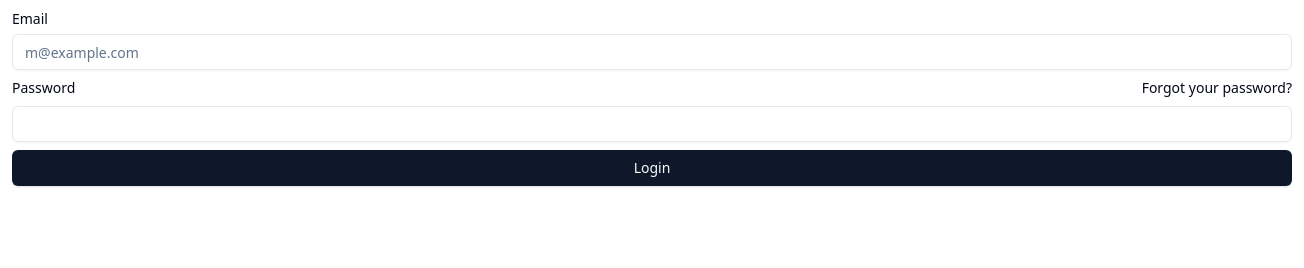
Test: LoginForm › displays error message for failed login
In the field labelled "Email": x=652, y=52 [12,34,1292,70], type "test@example.com"
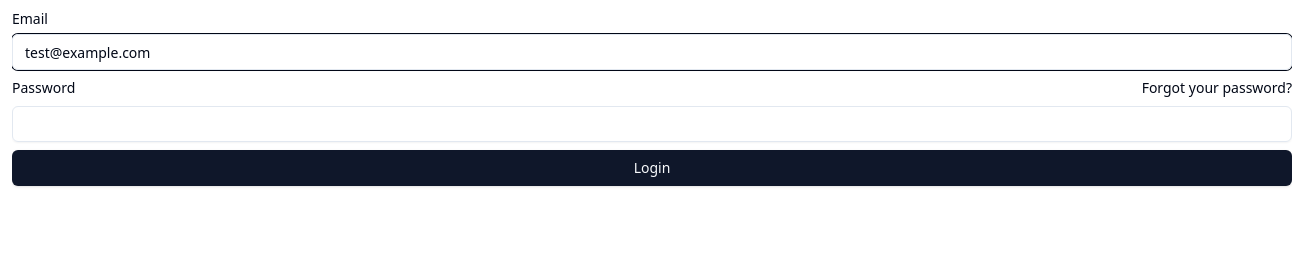
In the password field labelled "Password": x=652, y=124 [12,106,1292,142], type "wrong-password"
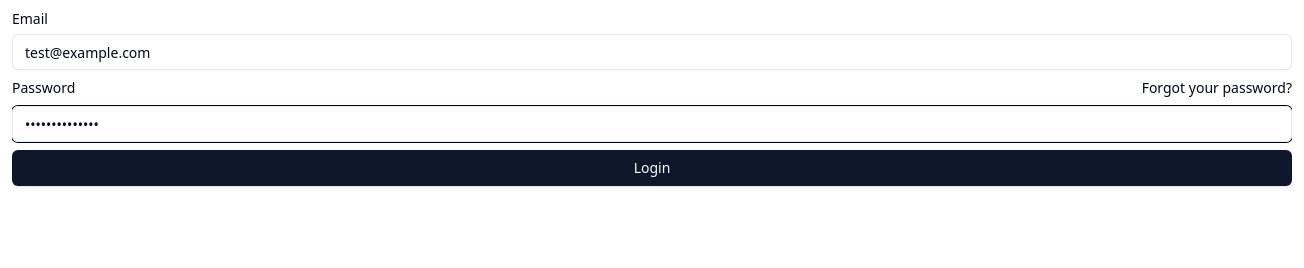
Click the button "Login": x=652, y=168 [12,150,1292,186]
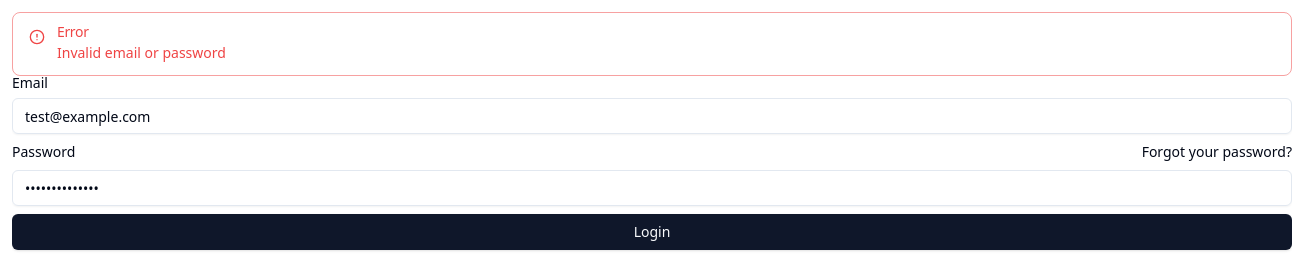
Now the list item "Invalid email or password" is shown, box [57,43,226,62]
